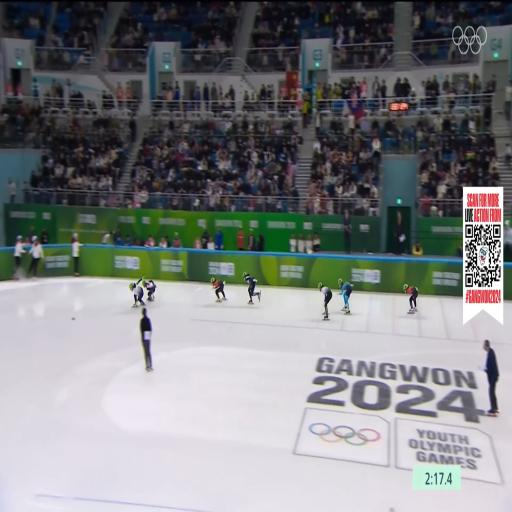Skater: (243, 272, 260, 304), (318, 283, 332, 319), (339, 279, 352, 314), (130, 277, 145, 307), (404, 284, 418, 313), (211, 278, 227, 302), (143, 280, 156, 301)
